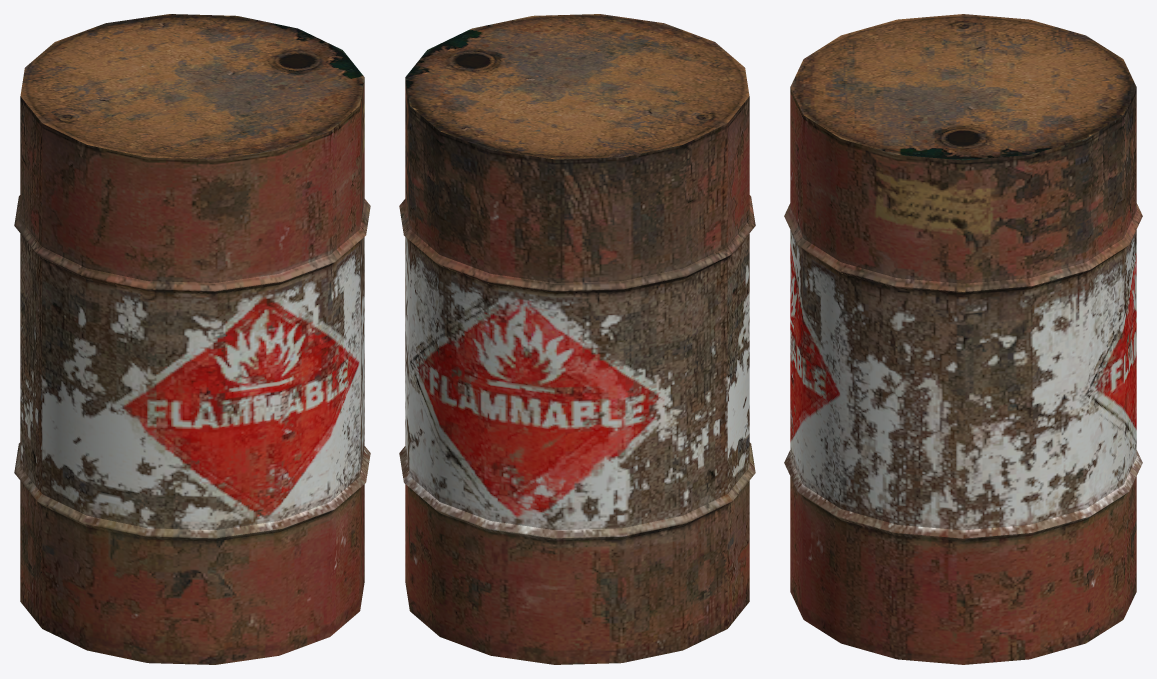
File: oildrum001_explosive.fbx
3 renders of one model, left to right at view 1: azimuth 30°, elevation 25°; view 2: azimuth 150°, elevation 25°; view 3: azimuth 270°, elevation 25°, orthographic.
Visible parts, largest first — view 1: Mesh; view 2: Mesh; view 3: Mesh.
Part boxes in pixels (bbox=[...]): Mesh: bbox=[14, 14, 370, 664]; Mesh: bbox=[399, 14, 755, 664]; Mesh: bbox=[784, 14, 1142, 664].
Bounding box in the file's own units: 55.25 × 85.73 × 55.25.
